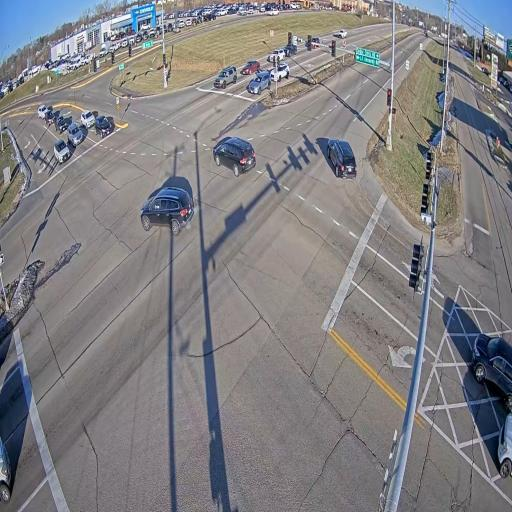pickup: (498, 413, 512, 478), (55, 115, 68, 134), (337, 29, 346, 38)
sedan: (212, 137, 256, 176), (247, 71, 270, 95), (241, 60, 260, 74), (284, 43, 297, 56)
suv: (141, 186, 194, 236), (329, 139, 357, 178), (214, 66, 237, 89), (95, 115, 113, 138), (54, 139, 70, 164), (67, 123, 83, 147), (271, 62, 290, 82), (80, 110, 95, 129), (267, 48, 285, 63), (45, 111, 54, 126), (38, 104, 47, 119), (312, 37, 320, 48)
van: (472, 333, 512, 412), (213, 137, 256, 176)
